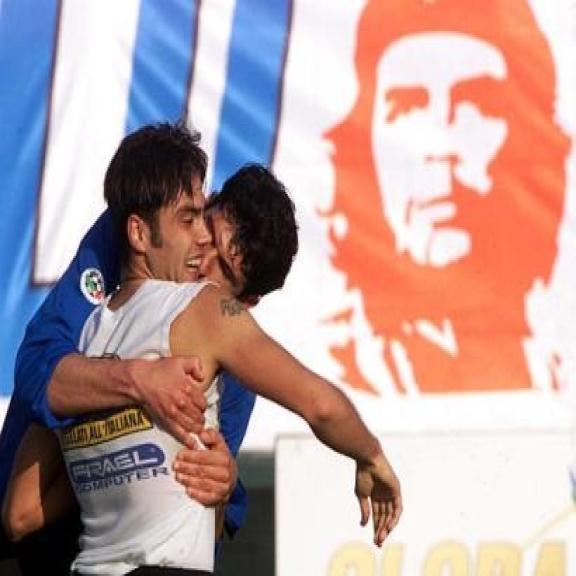face: (128, 152, 213, 302)
